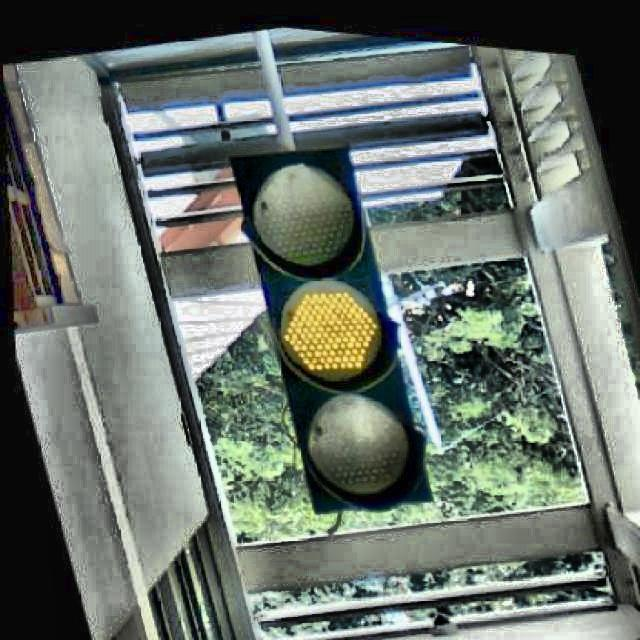yellow: (226, 154, 439, 502)
